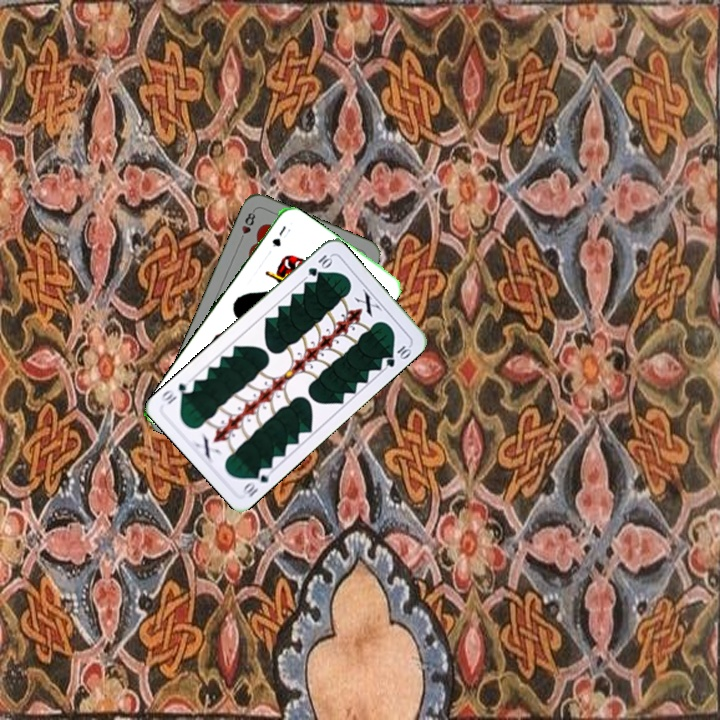G10: (239, 463, 275, 500), (304, 250, 335, 279)
GU: (268, 221, 288, 250)
H8: (236, 206, 258, 245)
